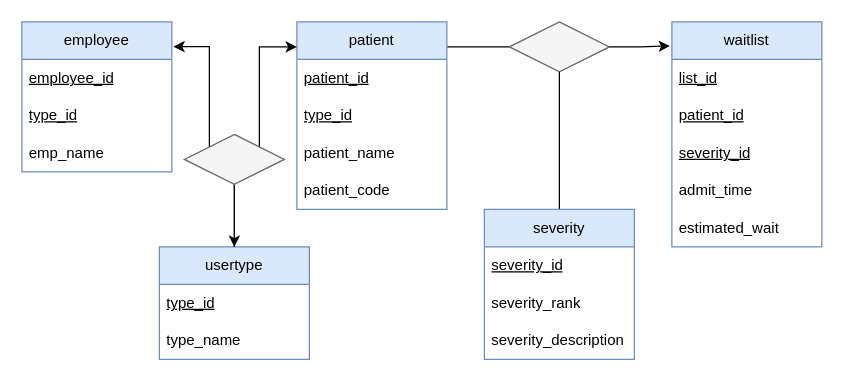
The diagram is 844 pixels wide and 381 high, and some of its shapes have lost their labels. The shapes that lost their labels are listed below. From the top down, each one's centre as x and y in pixels, then its label:
At point 558,46: "triage".
At point 233,158: "system".
